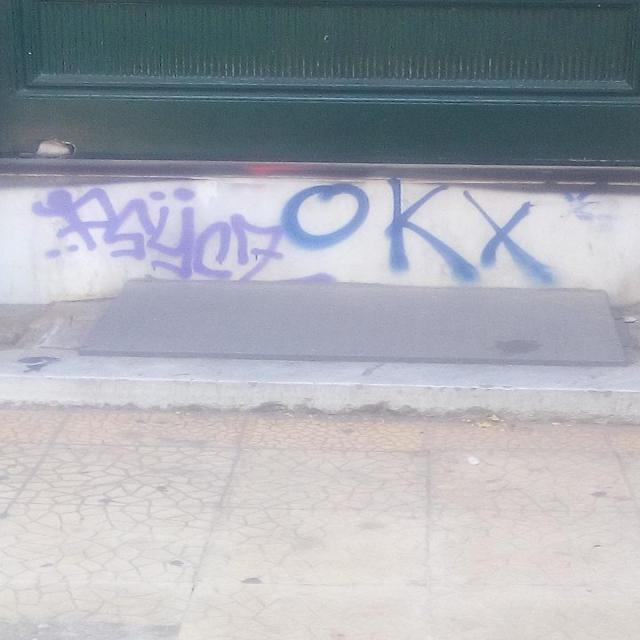nonspitting: (281, 178, 559, 286), (34, 182, 280, 282)
